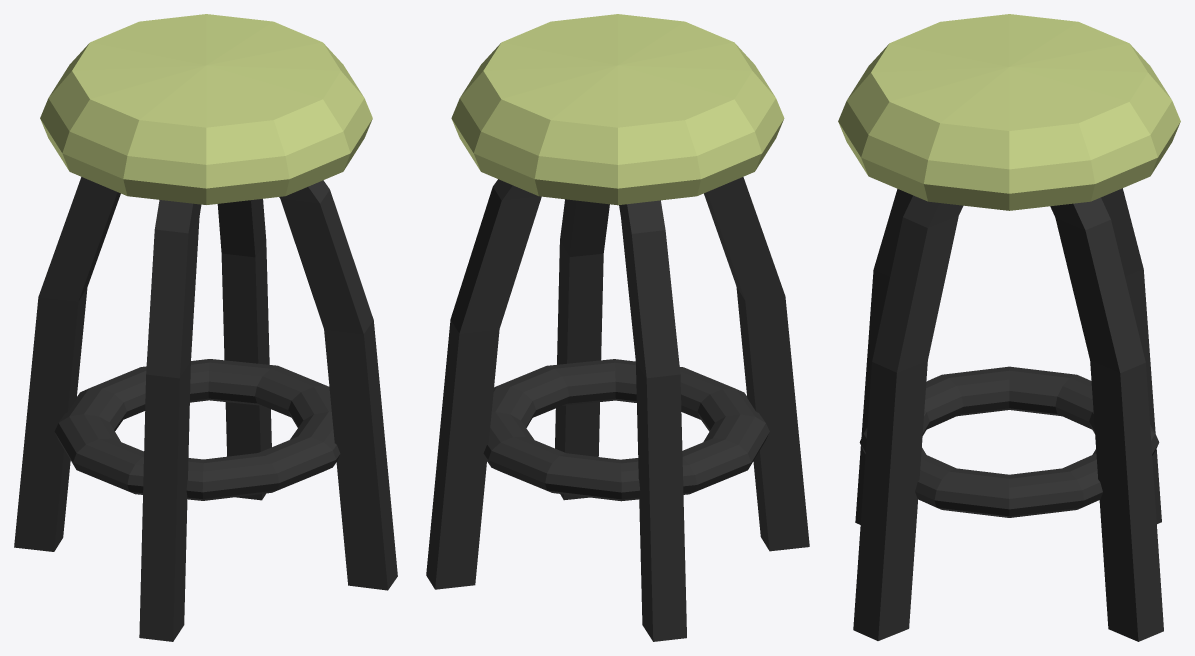
The model's file is KitchenStool.fbx.
3 views of the same model, side by side, from view 1: azimuth 30°, elevation 25°; view 2: azimuth 150°, elevation 25°; view 3: azimuth 270°, elevation 25° (orthographic). The views are drawn at different scales.
Visible parts, largest first — view 1: Cushion; view 2: Cushion; view 3: Cushion.
Part boxes in pixels (x1=…): Cushion: x1=14, y1=14, x2=397, y2=641; Cushion: x1=426, y1=14, x2=809, y2=641; Cushion: x1=838, y1=14, x2=1180, y2=641.
Bounding box in the file's own units: 130 × 213 × 130.
